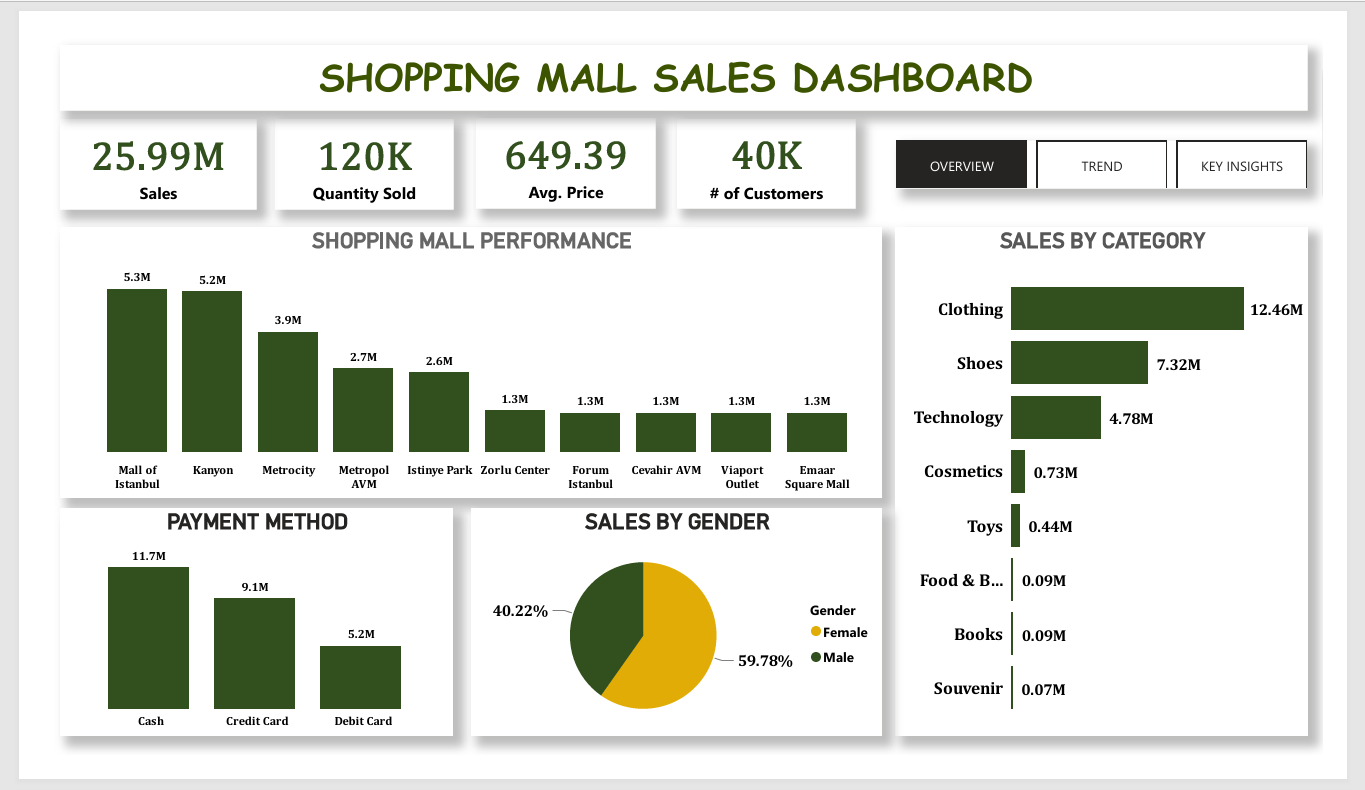

This screenshot's page, from the dashboard's own definition file:
{"tool":"powerbi","page":{"name":"OVERVIEW","canvas":[1280,720],"ordinal":0},"visuals":[{"type":"card","fields":{"Values":["Sum(Shopping_data.price)"]},"box":[17.5,84.1,196.8,90.5],"z":0},{"type":"textbox","box":[17.5,9.5,1247.6,66.7],"z":1000},{"type":"card","fields":{"Values":["Sum(Shopping_data.quantity)"]},"box":[231.7,84.1,179.4,90.5],"z":2000},{"type":"pageNavigator","box":[853.9,105.7,410,47.9],"z":3000},{"type":"columnChart","title":"SHOPPING MALL PERFORMANCE","fields":{"Category":["Shopping_data.shopping_mall"],"Y":["Sum(Shopping_data.price)"]},"box":[17.6,193.2,822.4,270.7],"z":4000},{"type":"clusteredColumnChart","title":"PAYMENT METHOD","fields":{"Category":["Shopping_data.payment_method"],"Y":["Sum(Shopping_data.price)"]},"box":[17.6,474.1,393.7,228.3],"z":5000},{"type":"clusteredBarChart","title":"SALES BY CATEGORY","fields":{"Category":["Shopping_data.category"],"Y":["Sum(Shopping_data.price)"]},"box":[853.2,193.2,412.7,509.3],"z":6000},{"type":"pieChart","title":"SALES BY GENDER","fields":{"Category":["Shopping_data.gender"],"Y":["Sum(Shopping_data.price)"]},"box":[428.8,474.1,411.2,228.3],"z":7000},{"type":"card","fields":{"Values":["Shopping_data.AVG PRICE"]},"box":[433.2,83.4,180,90.7],"z":8000},{"type":"card","fields":{"Values":["Shopping_data.Customers"]},"box":[634.1,83.7,179,90.4],"z":9000}]}

Visuals, with their boxes in screenshot pixels (x1, y1, x2, y2), scaled from the page's 1280x720 canvas onto the 1365x790 screenshot:
card - Sum(Shopping_data.price): <bbox>19, 92, 229, 192</bbox>
textbox: <bbox>19, 10, 1349, 84</bbox>
card - Sum(Shopping_data.quantity): <bbox>247, 92, 438, 192</bbox>
pageNavigator: <bbox>911, 116, 1348, 169</bbox>
"SHOPPING MALL PERFORMANCE" columnChart: <bbox>19, 212, 896, 509</bbox>
"PAYMENT METHOD" clusteredColumnChart: <bbox>19, 520, 439, 771</bbox>
"SALES BY CATEGORY" clusteredBarChart: <bbox>910, 212, 1350, 771</bbox>
"SALES BY GENDER" pieChart: <bbox>457, 520, 896, 771</bbox>
card - Shopping_data.AVG PRICE: <bbox>462, 92, 654, 191</bbox>
card - Shopping_data.Customers: <bbox>676, 92, 867, 191</bbox>
